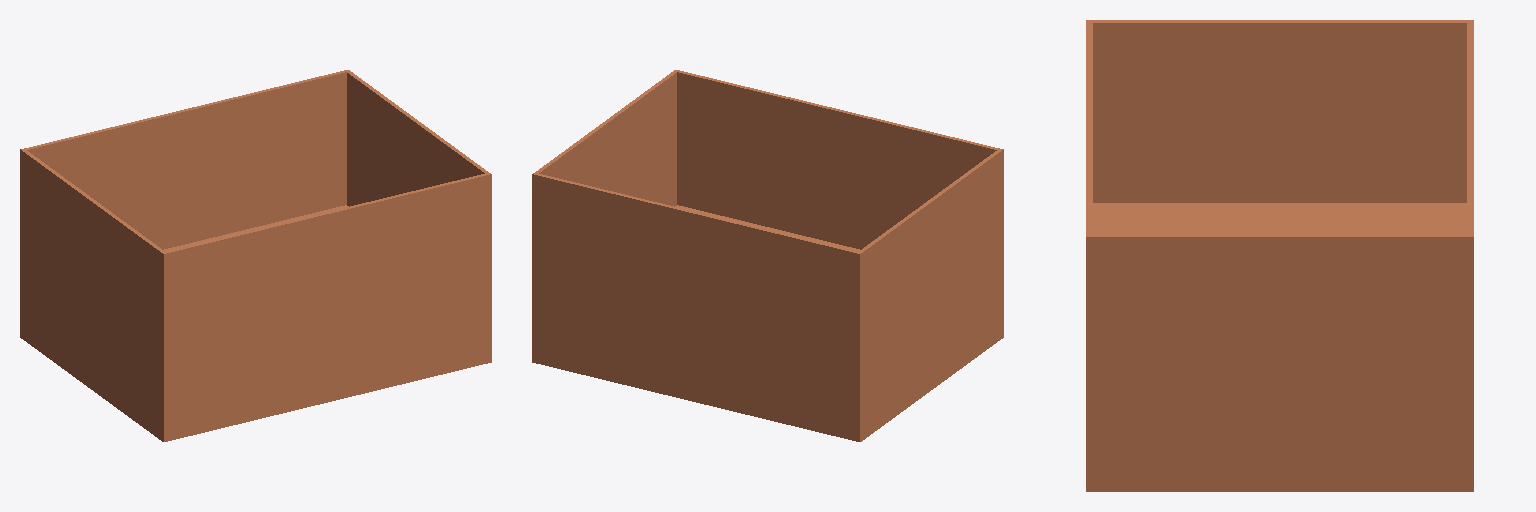
URDF robot description (wall):
<?xml version="1.0" encoding="utf-8"?>
<robot name="wall">
    <link name="front">
        <contact>
            <lateral_friction value="1.0"/>
        </contact>
        <inertial>
            <origin rpy="0 0 0" xyz="4.05 0 1"/>
            <mass value="10.0"/>
            <inertia ixx="0" ixy="0" ixz="0" iyy="0" iyz="0" izz="0"/>
        </inertial>
        <visual>
            <origin rpy="0 0 0" xyz="4.05 0 1"/>
            <geometry>
                <box size="0.1 6.2 4.5"/>
            </geometry>
            <material name="brown">
                <color rgba="0.82 0.54 0.39 0.5"/>
            </material>
        </visual>
        <collision>
            <origin rpy="0 0 0" xyz="4.05 0 1"/>
            <geometry>
                <box size="0.1 6.2 4.5"/>
            </geometry>
        </collision>
    </link>
    <link name="back">
        <contact>
            <lateral_friction value="1.0"/>
        </contact>
        <inertial>
            <origin rpy="0 0 0" xyz="-4.05 0 1"/>
            <mass value="10.0"/>
            <inertia ixx="0" ixy="0" ixz="0" iyy="0" iyz="0" izz="0"/>
        </inertial>
        <visual>
            <origin rpy="0 0 0" xyz="-4.05 0 1"/>
            <geometry>
                <box size="0.1 6.2 4.5"/>
            </geometry>
            <material name="brown">
                <color rgba="0.82 0.54 0.39 0.5"/>
            </material>
        </visual>
        <collision>
            <origin rpy="0 0 0" xyz="-4.05 0 1"/>
            <geometry>
                <box size="0.1 6.2 4.5"/>
            </geometry>
        </collision>
    </link>
    <link name="left">
        <contact>
            <lateral_friction value="1.0"/>
        </contact>
        <inertial>
            <origin rpy="0 0 0" xyz="0 3.05 1"/>
            <mass value="10.0"/>
            <inertia ixx="0" ixy="0" ixz="0" iyy="0" iyz="0" izz="0"/>
        </inertial>
        <visual>
            <origin rpy="0 0 0" xyz="0 3.05 1"/>
            <geometry>
                <box size="8 0.1 4.5"/>
            </geometry>
            <material name="brown">
                <color rgba="0.82 0.54 0.39 0.5"/>
            </material>
        </visual>
        <collision>
            <origin rpy="0 0 0" xyz="0 3.05 1"/>
            <geometry>
                <box size="8 0.1 4.5"/>
            </geometry>
        </collision>
    </link>
    <link name="right">
        <contact>
            <lateral_friction value="1.0"/>
        </contact>
        <inertial>
            <origin rpy="0 0 0" xyz="0 -3.05 1"/>
            <mass value="10.0"/>
            <inertia ixx="0" ixy="0" ixz="0" iyy="0" iyz="0" izz="0"/>
        </inertial>
        <visual>
            <origin rpy="0 0 0" xyz="0 -3.05 1"/>
            <geometry>
                <box size="8 0.1 4.5"/>
            </geometry>
            <material name="brown">
                <color rgba="0.82 0.54 0.39 0.5"/>
            </material>
        </visual>
        <collision>
            <origin rpy="0 0 0" xyz="0 -3.05 1"/>
            <geometry>
                <box size="8 0.1 4.5"/>
            </geometry>
        </collision>
    </link>

    <link name="bottom">
        <contact>
            <lateral_friction value="1.0"/>
        </contact>
        <inertial>
            <origin rpy="0 0 0" xyz="0 0 0"/>
            <mass value="10.0"/>
            <inertia ixx="0" ixy="0" ixz="0" iyy="0" iyz="0" izz="0"/>
        </inertial>
        <visual>
            <origin rpy="0 0 0" xyz="0 0 0"/>
            <geometry>
                <box size="8.2 6.2 0.15"/>
            </geometry>
            <material name="brown">
                <color rgba="0.82 0.54 0.39 0.5"/>
            </material>
        </visual>
        <collision>
            <origin rpy="0 0 0" xyz="0 0 0"/>
            <geometry>
                <box size="8.2 6.2 0.15"/>
            </geometry>
        </collision>
    </link>
    
    <joint name="j1" type="fixed">
        <parent link="front"/>
        <child link="left"/>
    </joint>
    <joint name="j2" type="fixed">
        <parent link="left"/>
        <child link="back"/>
    </joint>
    <joint name="j3" type="fixed">
        <parent link="back"/>
        <child link="right"/>
    </joint>
    <joint name="j4" type="fixed">
        <parent link="right"/>
        <child link="bottom"/>
    </joint>
</robot>

--- What the picture shows (computed from the rendered views, not written in the file) ---
The picture shows the robot from 3 angles, left to right: view 1: azimuth 30°, elevation 25°; view 2: azimuth 150°, elevation 25°; view 3: azimuth 270°, elevation 25°; orthographic projection.
Robot: wall — 5 links, 4 joints (4 fixed); root link front; default pose: all joints at 0.
Visible links, largest first — view 1: right, left, back, front, bottom; view 2: left, right, back, front, bottom; view 3: front, back, bottom, left, right.
Link boxes in pixels (x1,y1,x2,y2): right: (166,174,487,440); left: (25,71,346,249); back: (20,148,167,441); front: (344,70,491,362); bottom: (21,205,491,391); left: (536,174,857,440); right: (677,71,998,249); back: (856,148,1003,441); front: (532,70,679,362); bottom: (532,205,1002,392); front: (1086,234,1473,491); back: (1086,20,1473,202); bottom: (1093,203,1466,424); left: (1467,23,1473,233); right: (1086,23,1092,233).
Size in the robot's own frame: 8.2 by 6.2 by 4.5 metres.
Geometry: primitives only (box / cylinder / sphere), no mesh files.
